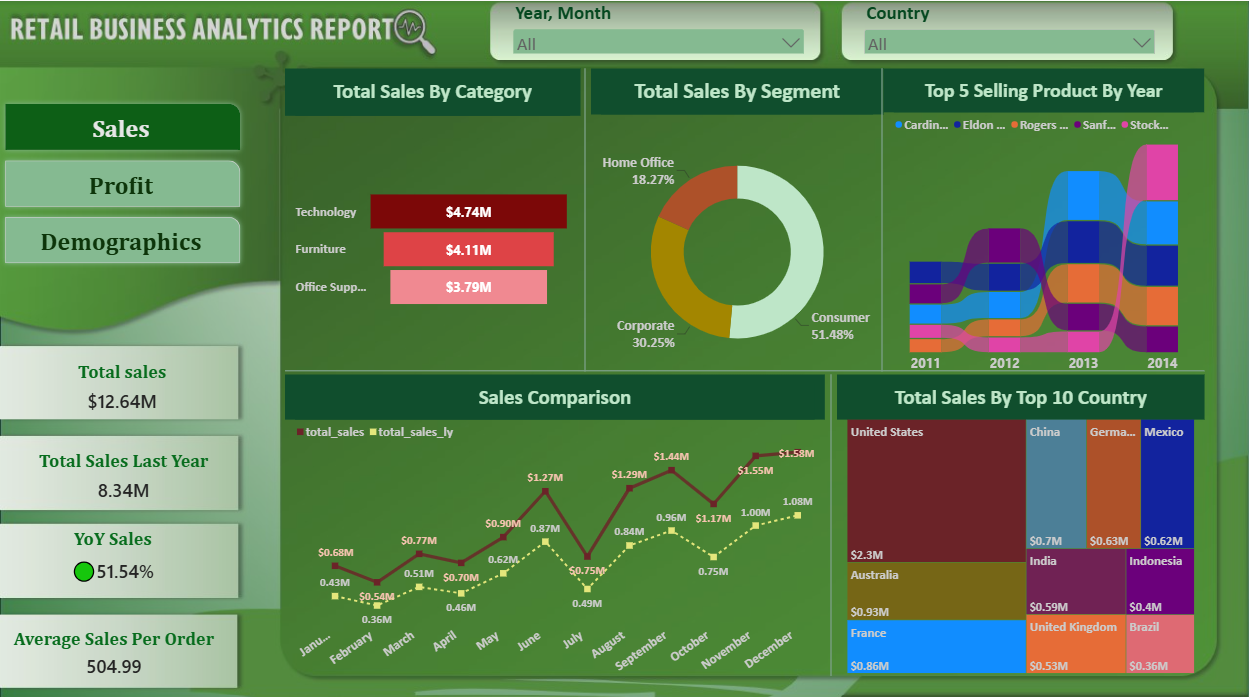

The page's visual inventory and layout, read from the dashboard file:
{"tool":"powerbi","page":{"name":"Sales","canvas":[1920,1080],"ordinal":0},"visuals":[{"type":"card","title":"Total sales","fields":{"Values":["calculated_table.total_sales"]},"box":[32.3,539.2,311.1,106],"z":0},{"type":"card","title":"Total Sales Last Year","fields":{"Values":["calculated_table.total_sales_ly"]},"box":[34.6,675.2,311.1,106],"z":1000},{"type":"card","title":"YoY Sales","fields":{"Values":["calculated_table.yoy_growth"]},"box":[18.4,795,310.3,116.1],"z":2000},{"type":"card","title":"Average Sales Per Order","fields":{"Values":["calculated_table.avg_sales_per_order"]},"box":[0,949.4,350.3,99.1],"z":3000},{"type":"donutChart","title":"Total Sales By Segment","fields":{"Category":["customer_table.Segment"],"Y":["calculated_table.total_sales"]},"box":[908,103.7,449.4,509.3],"z":4000},{"type":"ribbonChart","title":"Top 5 Selling Product By Year","fields":{"Category":["Date_Table.Year"],"Series":["product_table.Product Name"],"Y":["Sum(sales_table.Quantity)"]},"box":[1357.1,104.2,492.6,487.9],"z":5000},{"type":"funnel","title":"Total Sales By Category","fields":{"Category":["product_table.Category"],"Y":["calculated_table.total_sales"]},"box":[437.8,103.7,454,497.8],"z":6000},{"type":"lineChart","title":"Sales Comparison","fields":{"Category":["Date_Table.Date.Variation.Date Hierarchy.Month"],"Y":["calculated_table.total_sales","calculated_table.total_sales_ly"]},"box":[437.8,573.8,829.6,488.5],"z":7000},{"type":"treemap","title":"Total Sales By Top 10 Country","fields":{"Group":["location_table.Country"],"Values":["calculated_table.total_sales"]},"box":[1285.9,573.8,564.6,474.7],"z":8000},{"type":"shape","box":[437.8,507,1412.6,122.1],"z":9000},{"type":"shape","box":[719,103.7,359.5,465.5],"z":10000},{"type":"shape","box":[1175.3,103.7,359.5,465.5],"z":11000},{"type":"shape","box":[1096.9,573.8,359.5,463.2],"z":12000},{"type":"pageNavigator","box":[0,129,377.9,283.4],"z":13000},{"type":"slicer","fields":{"Values":["Date_Table.Date.Variation.Date Hierarchy.Year","Date_Table.Date.Variation.Date Hierarchy.Month"]},"box":[783.5,0,456.4,80.9],"z":14000},{"type":"slicer","fields":{"Values":["location_table.Country"]},"box":[1322.8,0,456.4,80.9],"z":15000}]}

Visuals, with their boxes in screenshot pixels (x1, y1, x2, y2), scaled from the page's 1920x1080 canvas onto the 1249x697 screenshot:
"Total sales" card: [x1=21, y1=348, x2=223, y2=416]
"Total Sales Last Year" card: [x1=23, y1=436, x2=225, y2=504]
"YoY Sales" card: [x1=12, y1=513, x2=214, y2=588]
"Average Sales Per Order" card: [x1=0, y1=613, x2=228, y2=677]
"Total Sales By Segment" donutChart: [x1=591, y1=67, x2=883, y2=396]
"Top 5 Selling Product By Year" ribbonChart: [x1=883, y1=67, x2=1203, y2=382]
"Total Sales By Category" funnel: [x1=285, y1=67, x2=580, y2=388]
"Sales Comparison" lineChart: [x1=285, y1=370, x2=824, y2=686]
"Total Sales By Top 10 Country" treemap: [x1=837, y1=370, x2=1204, y2=677]
shape: [x1=285, y1=327, x2=1204, y2=406]
shape: [x1=468, y1=67, x2=702, y2=367]
shape: [x1=765, y1=67, x2=998, y2=367]
shape: [x1=714, y1=370, x2=947, y2=669]
pageNavigator: [x1=0, y1=83, x2=246, y2=266]
slicer - Date_Table.Date.Variation.Date Hierarchy.Year x Date_Table.Date.Variation.Date Hierarchy.Month: [x1=510, y1=0, x2=807, y2=52]
slicer - location_table.Country: [x1=861, y1=0, x2=1157, y2=52]
